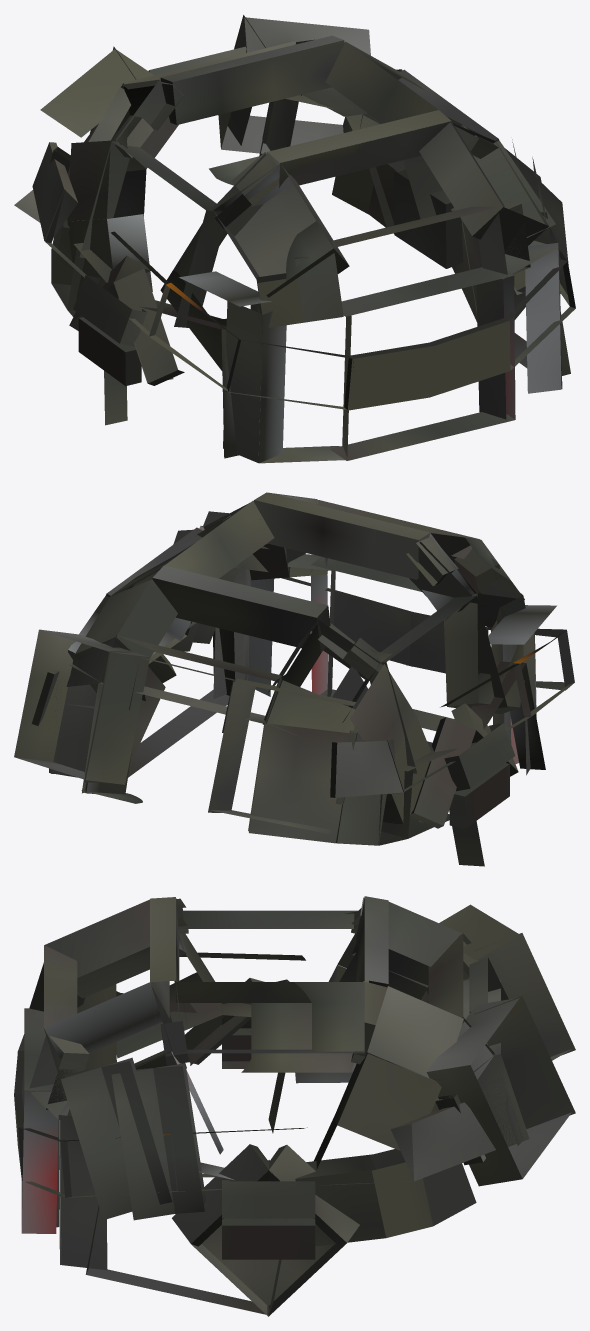
File: ratnik_veteran_h.obj
The picture shows the model from 3 angles, top to bottom: view 1: azimuth 30°, elevation 25°; view 2: azimuth 150°, elevation 25°; view 3: azimuth 270°, elevation 25°; orthographic projection. The views are drawn at different scales.
Visible parts, largest first — view 1: cuboid; view 2: cuboid; view 3: cuboid.
Boxes of the visible parts, x1,y1,x2,y2 form: cuboid: (14,15,575,463); cuboid: (14,492,574,866); cuboid: (14,896,575,1316).
Size of the model in its own units: 0.8065 by 0.521 by 0.9393.
